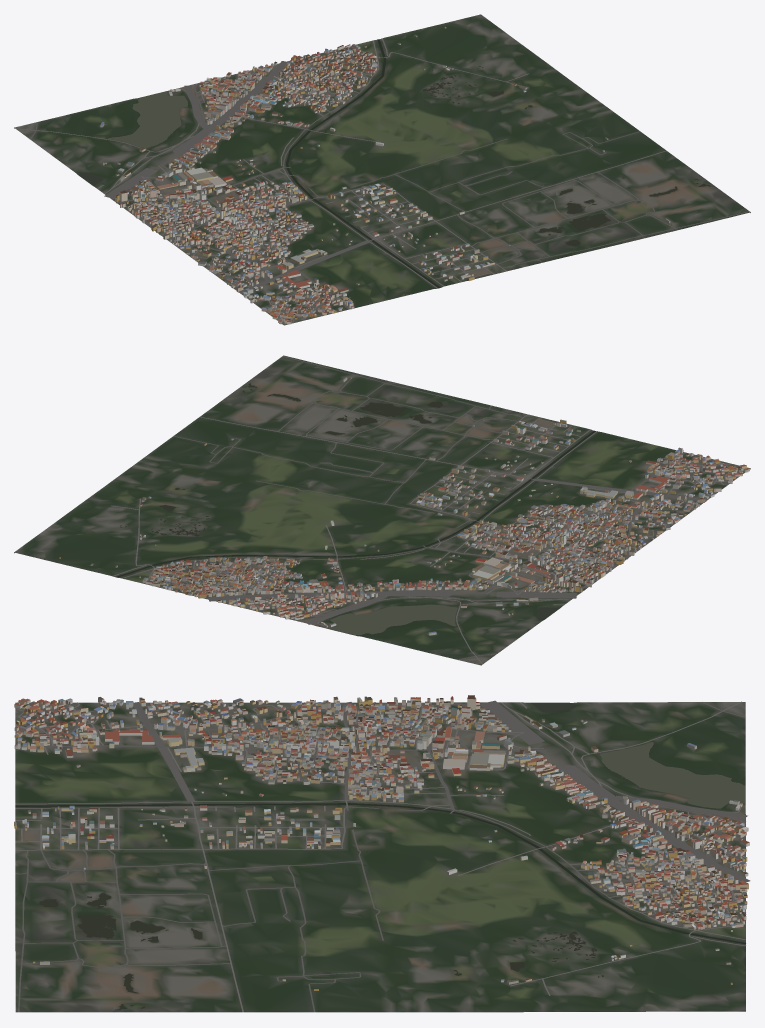
The picture shows the model from 3 angles, top to bottom: view 1: azimuth 30°, elevation 25°; view 2: azimuth 150°, elevation 25°; view 3: azimuth 270°, elevation 25°; orthographic projection. The views are drawn at different scales.
Parts seen in each view (by area): view 1: ground, buildings, roads, water; view 2: ground, buildings, roads, water; view 3: ground, buildings, roads, water.
Boxes of the visible parts, box(x1,y1,x2,y2) form: ground: box(14, 14, 750, 325); buildings: box(100, 27, 670, 324); roads: box(15, 38, 749, 323); water: box(79, 39, 710, 287); ground: box(14, 355, 750, 665); buildings: box(59, 377, 749, 635); roads: box(111, 356, 744, 664); water: box(116, 383, 595, 635); ground: box(15, 702, 745, 1012); buildings: box(14, 695, 749, 990); roads: box(15, 700, 750, 1012); water: box(15, 702, 745, 1010).
Size of the model in its own units: 1410 by 31.32 by 1414.
